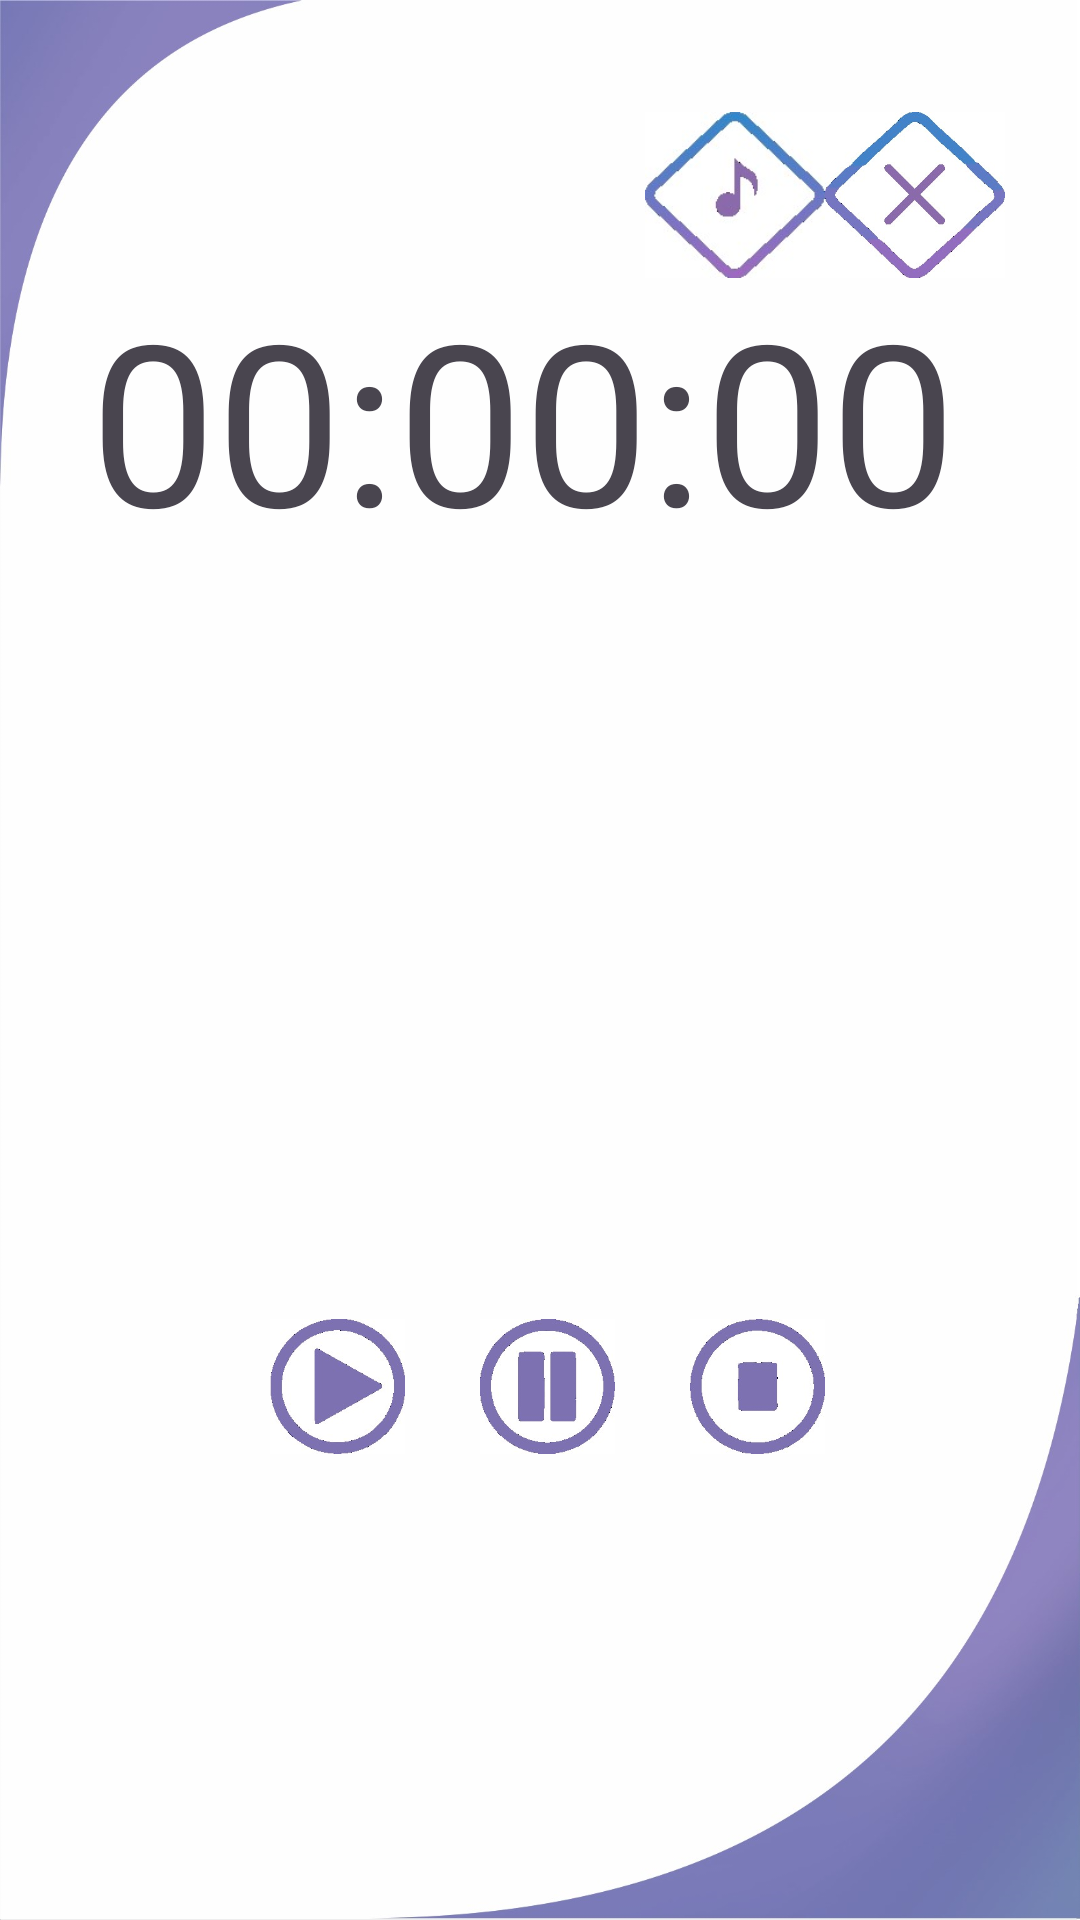

Locate icon controls on the screen. Image size 1080w x 1920h, boxes as (x1, y1, x2, y2).
exit: (825, 112, 1005, 278)
pause: (480, 1319, 615, 1454)
startt: (270, 1319, 405, 1454)
